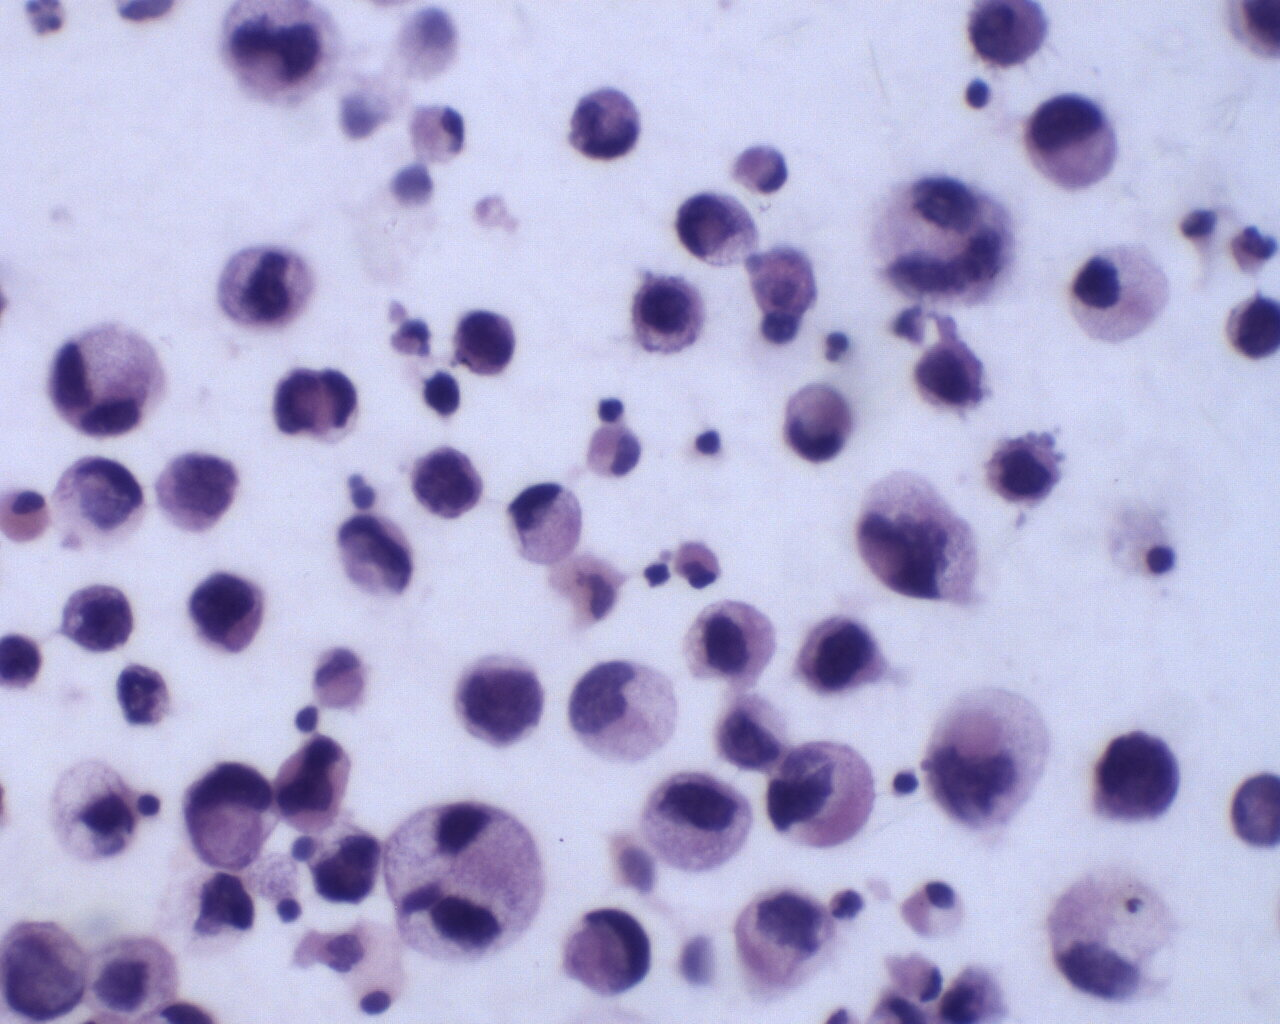ab: (855, 463, 991, 612), (642, 769, 757, 876), (1083, 721, 1185, 823), (452, 651, 552, 753), (212, 242, 317, 336), (557, 898, 652, 1000), (267, 734, 360, 837), (150, 441, 245, 537), (797, 612, 897, 700), (623, 267, 715, 362), (1, 916, 84, 1018), (670, 188, 762, 269), (184, 569, 271, 654), (984, 423, 1066, 512), (709, 691, 793, 776), (409, 436, 487, 525), (907, 336, 990, 417), (59, 574, 140, 652), (449, 296, 519, 381), (964, 1, 1054, 67), (1219, 288, 1280, 364)
histo: (1046, 863, 1186, 1004), (39, 752, 139, 866), (1072, 242, 1172, 345), (501, 472, 590, 569), (895, 877, 972, 942)
lymph: (960, 72, 995, 116)
